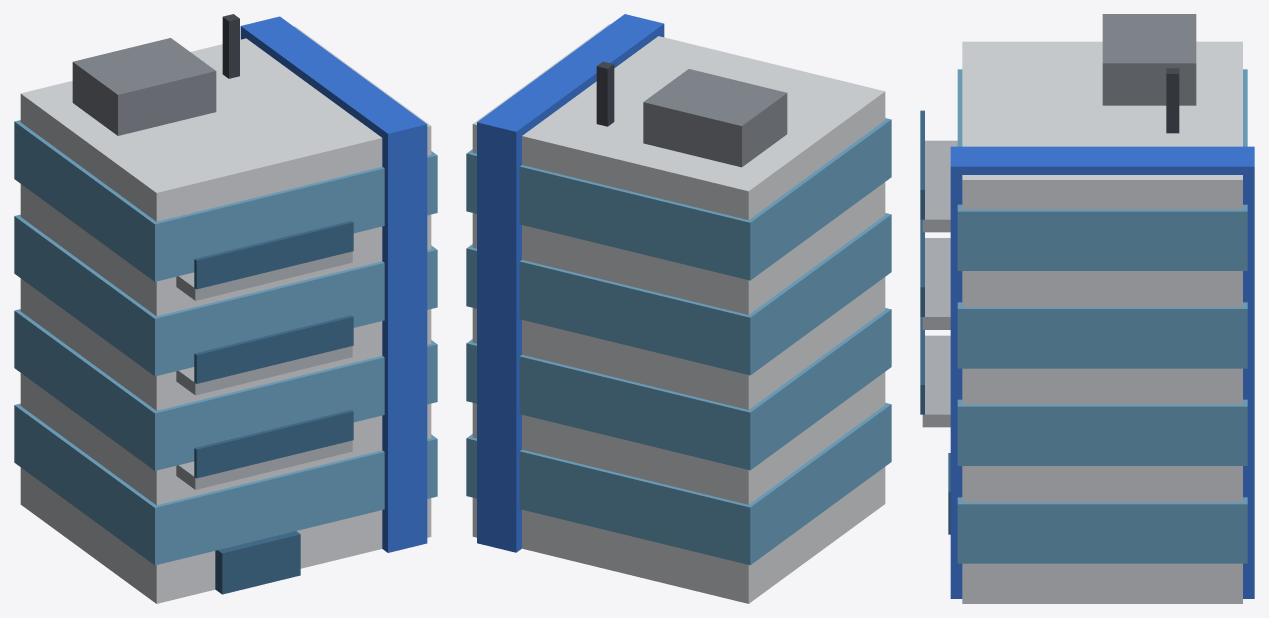
The model's file is house_5_a.glb.
3 views of the same model, side by side, from view 1: azimuth 30°, elevation 25°; view 2: azimuth 150°, elevation 25°; view 3: azimuth 270°, elevation 25° (orthographic). The views are drawn at different scales.
Visible parts, largest first — view 1: house_5_a; view 2: house_5_a; view 3: house_5_a.
Part boxes in pixels (box(x1,y1,x2,y2)): house_5_a: box(14, 14, 437, 603); house_5_a: box(466, 14, 891, 603); house_5_a: box(920, 14, 1254, 603).
Bounding box in the file's own units: 0.144 × 0.228 × 0.143.
